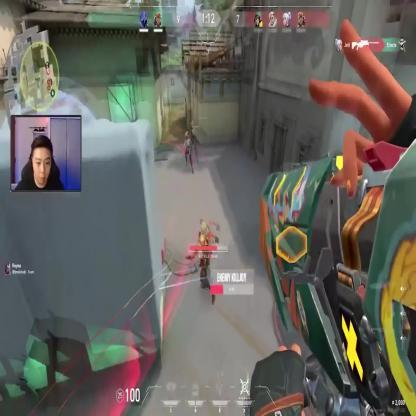enemy: (196, 219, 218, 303), (184, 128, 194, 172)
enemy_head: (201, 221, 210, 238), (184, 131, 188, 139)
